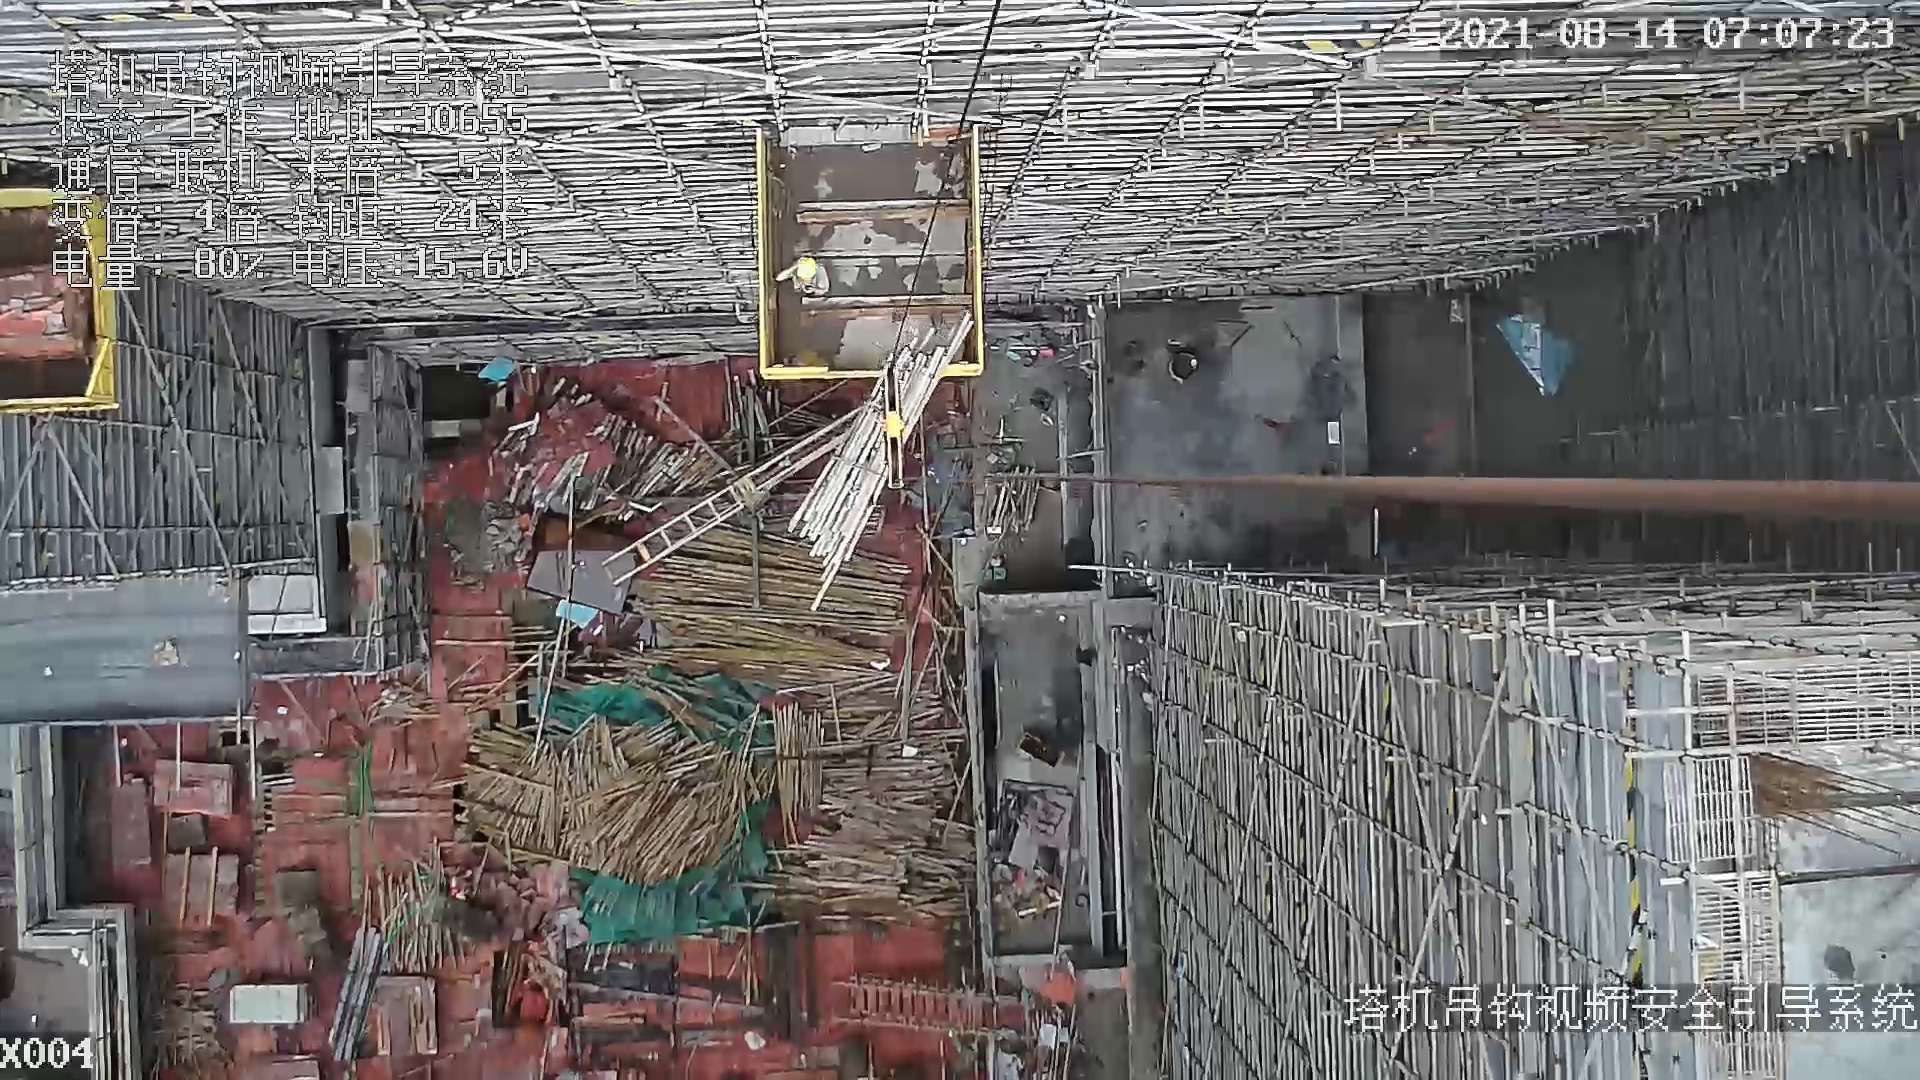helmet: (796, 256, 817, 279)
hook: (872, 356, 914, 494)
person: (785, 255, 831, 309)
